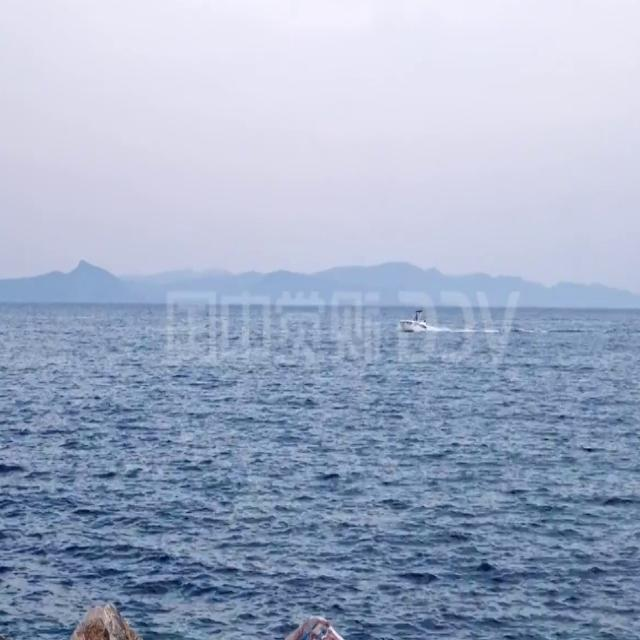houseboat: (402, 304, 428, 334)
